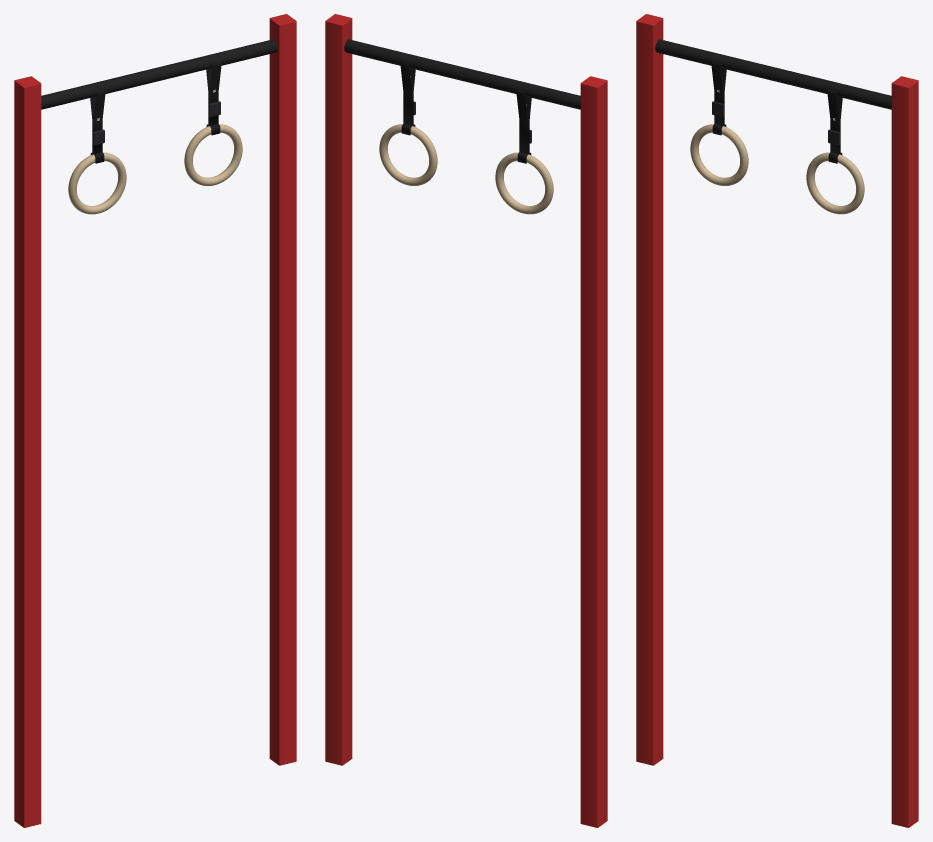
The model's file is rogue-wood-gymnastics-rings_v003.glb.
3 renders of one model, left to right at view 1: azimuth 30°, elevation 25°; view 2: azimuth 150°, elevation 25°; view 3: azimuth 330°, elevation 25°, orthographic.
Parts seen in each view (by area): view 1: rogue-wood-gymnastics-rings_red, rogue-wood-gymnastics-rings_frame, rogue-wood-gymnastics-rings_birch, rogue-wood-gymnastics-rings_strap; view 2: rogue-wood-gymnastics-rings_red, rogue-wood-gymnastics-rings_frame, rogue-wood-gymnastics-rings_birch, rogue-wood-gymnastics-rings_strap; view 3: rogue-wood-gymnastics-rings_red, rogue-wood-gymnastics-rings_frame, rogue-wood-gymnastics-rings_birch, rogue-wood-gymnastics-rings_strap.
Part boxes in pixels (<box>): rogue-wood-gymnastics-rings_red: <box>14,14,296,827</box>; rogue-wood-gymnastics-rings_frame: <box>41,39,277,109</box>; rogue-wood-gymnastics-rings_birch: <box>68,124,242,214</box>; rogue-wood-gymnastics-rings_strap: <box>90,61,221,163</box>; rogue-wood-gymnastics-rings_red: <box>325,14,607,827</box>; rogue-wood-gymnastics-rings_frame: <box>344,39,580,109</box>; rogue-wood-gymnastics-rings_birch: <box>379,124,553,214</box>; rogue-wood-gymnastics-rings_strap: <box>400,61,531,163</box>; rogue-wood-gymnastics-rings_red: <box>636,14,918,827</box>; rogue-wood-gymnastics-rings_frame: <box>655,39,891,109</box>; rogue-wood-gymnastics-rings_birch: <box>690,124,864,214</box>; rogue-wood-gymnastics-rings_strap: <box>711,61,842,163</box>.
Size of the model in its own units: 1.18 by 3.05 by 0.0762.
